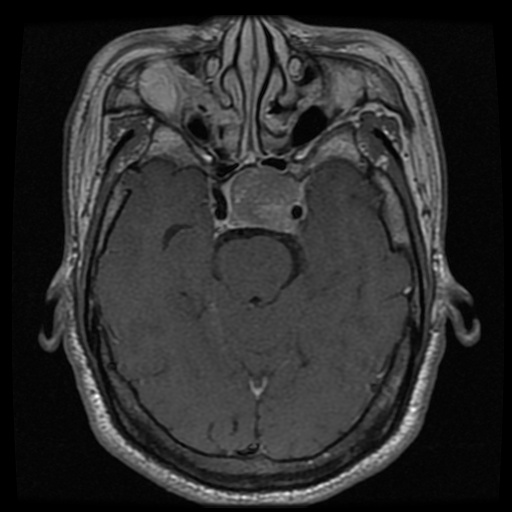pituitary: (230, 169, 300, 227)
